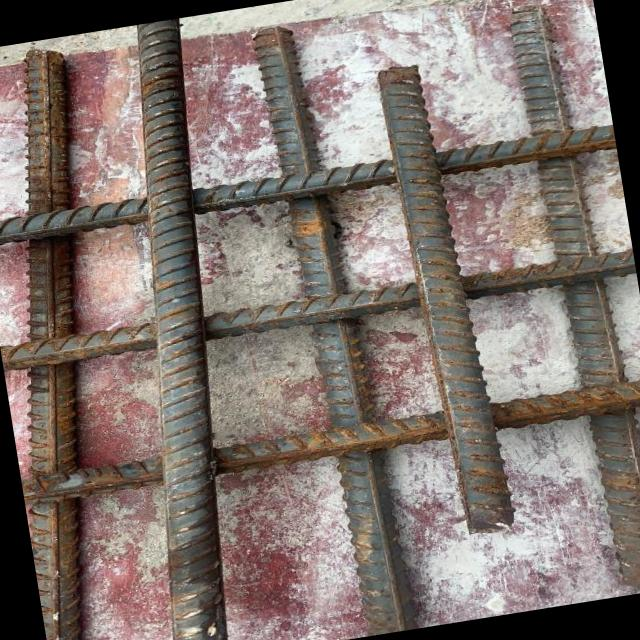ribbed bar: (72, 18, 280, 640), (248, 18, 422, 640), (0, 41, 176, 640), (0, 243, 636, 375), (505, 0, 640, 594), (20, 376, 640, 505), (0, 121, 616, 250), (372, 56, 522, 539)
